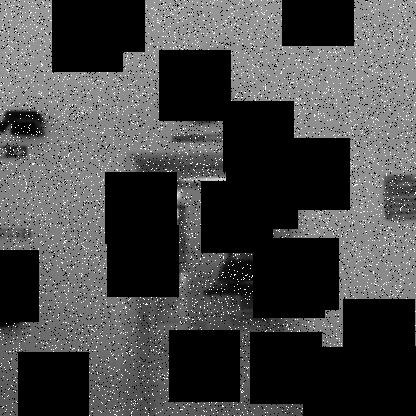Porte: (120, 144, 319, 415)
